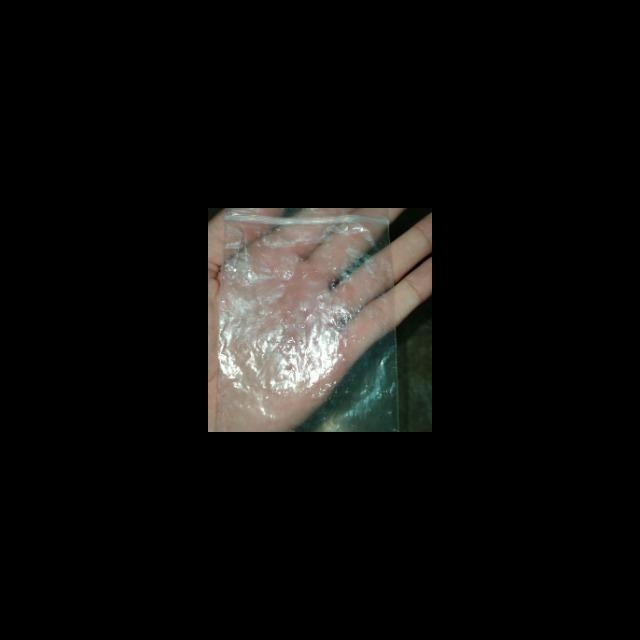plastic: (217, 208, 400, 432)
